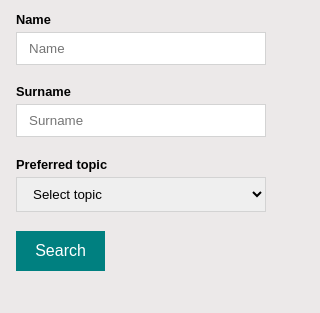
Scenario: SearchForm component › should show a validation error message
The width and height of the screenshot is (320, 313).
Click the button "Search".
click(61, 251)  # box [16,231,105,271]
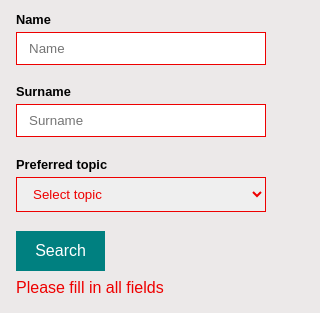
Now the text "Please fill in all fields" is shown, box [16,279,164,296]
